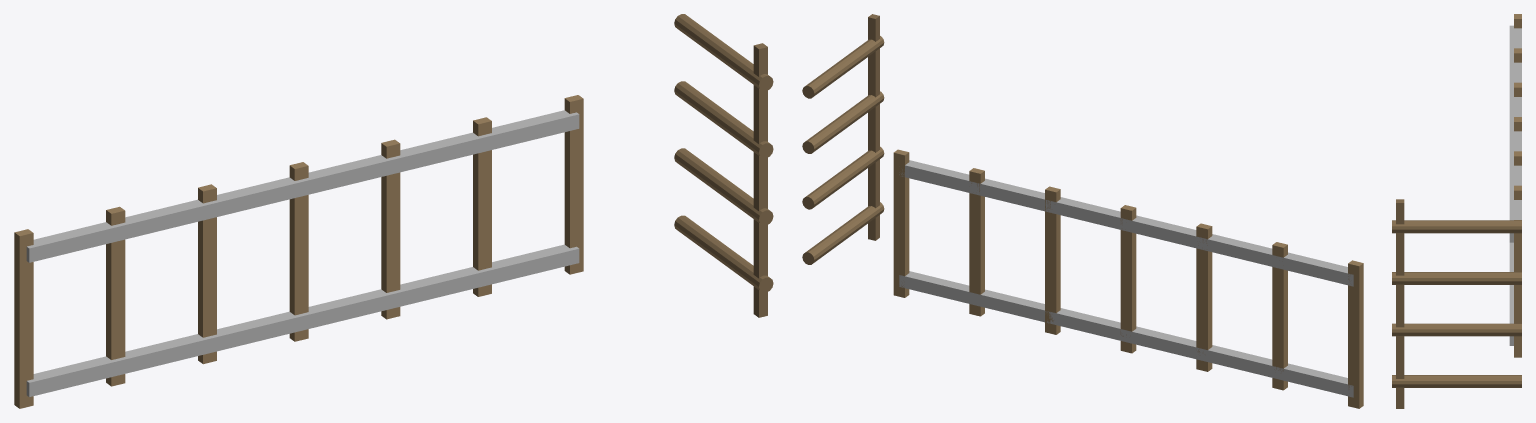
File: rel_pagar_3d.glb
The picture shows the model from 3 angles, left to right: view 1: azimuth 30°, elevation 25°; view 2: azimuth 150°, elevation 25°; view 3: azimuth 270°, elevation 25°; orthographic projection. The views are drawn at different scales.
Parts seen in each view (by area): view 1: world; view 2: world; view 3: world.
Boxes of the visible parts, left/top/right/bottom form: world: left=14, top=14, right=773, bottom=408; world: left=802, top=14, right=1363, bottom=408; world: left=1392, top=14, right=1521, bottom=408.
Bounding box in the file's own units: 7.36 × 2.8 × 1.6.
